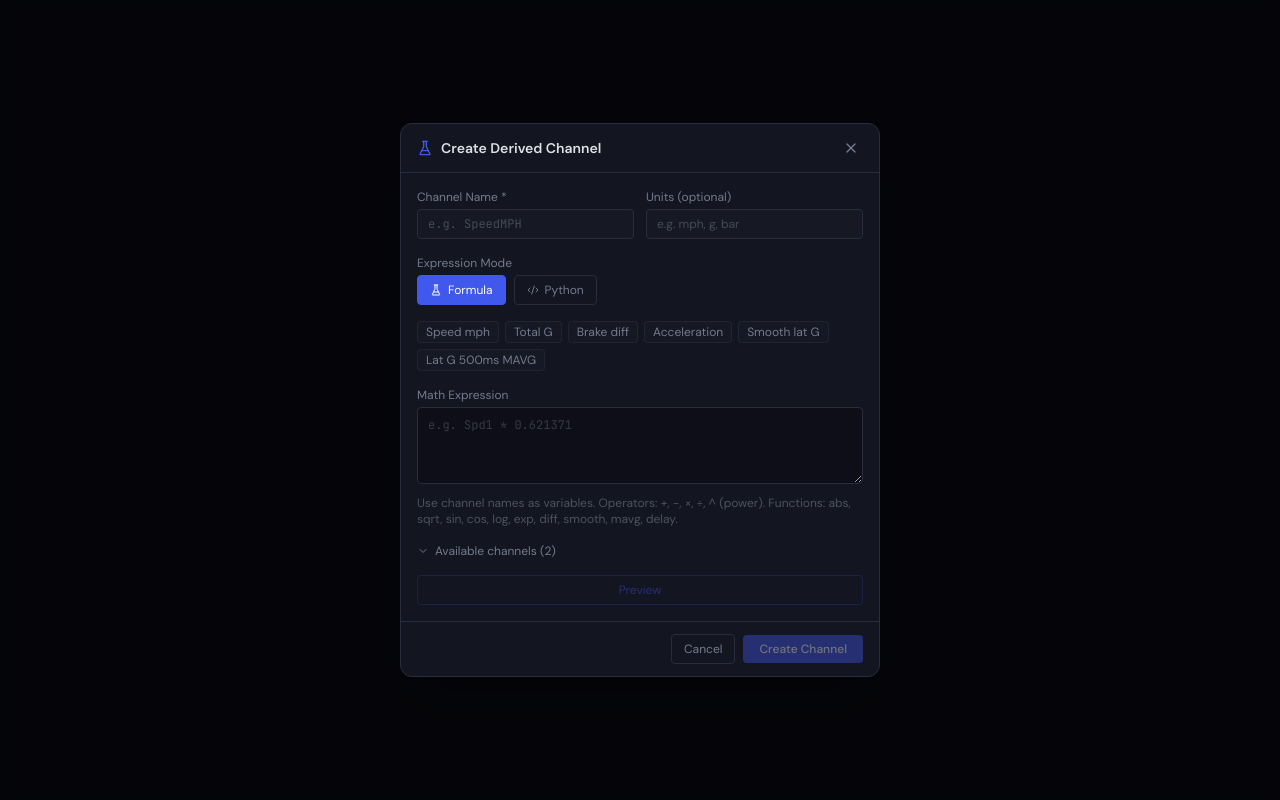
Test: DerivedChannelDialog › previews a formula and shows the sample count
The width and height of the screenshot is (1280, 800).
Type " Mph " into the field with test id "input-derived-name". click: x=526, y=224
box: 417,209 -> 634,239
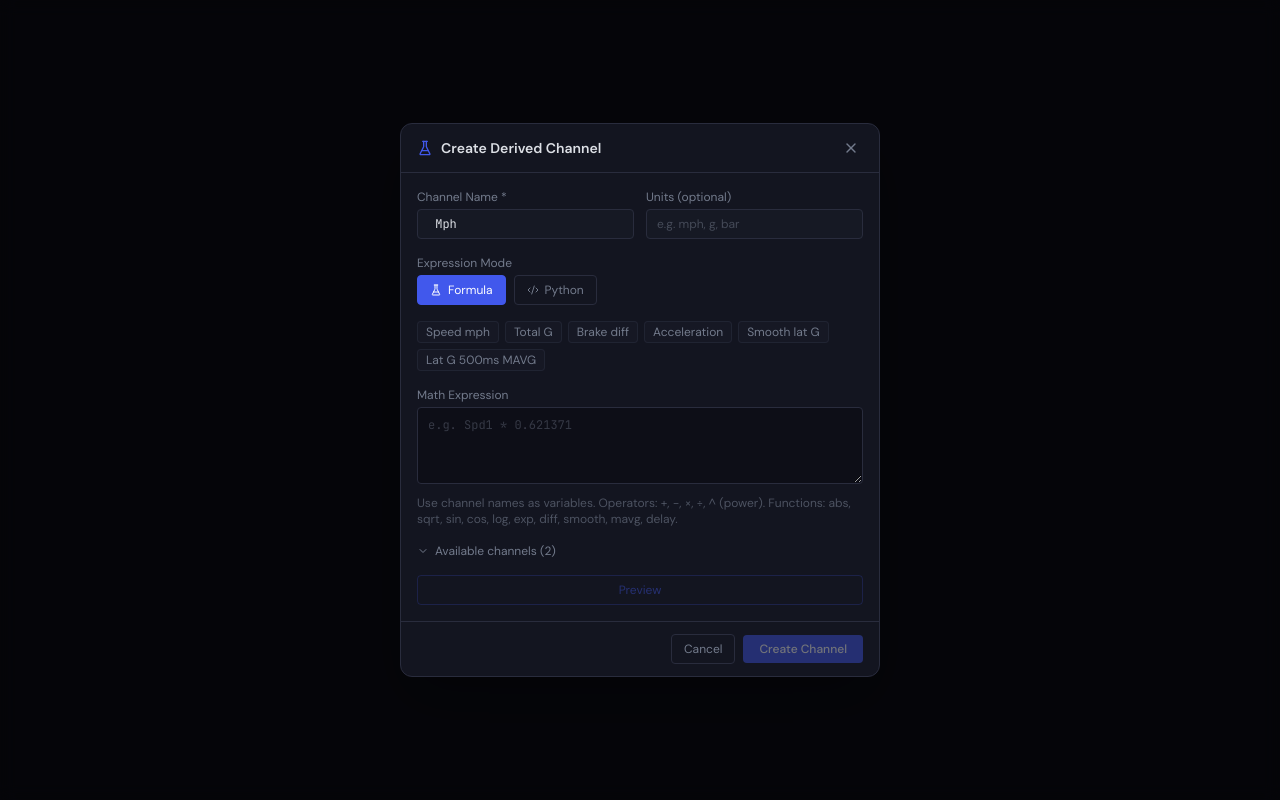
Type "mph" into the field with test id "input-derived-units". click: x=754, y=224
box: 646,209 -> 863,239
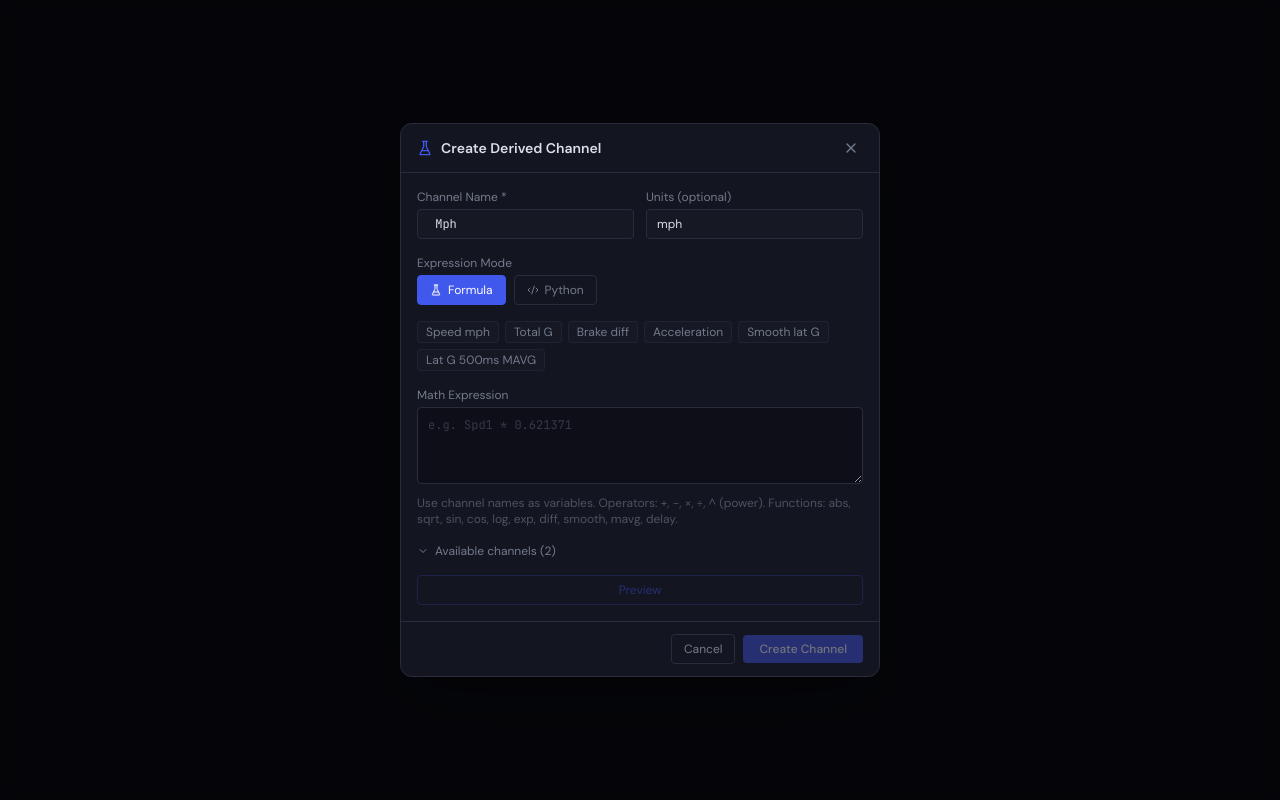
Type "Spd1 * 0.621371" into the text box with test id "textarea-expression". click: x=640, y=446
box: 417,407 -> 863,484
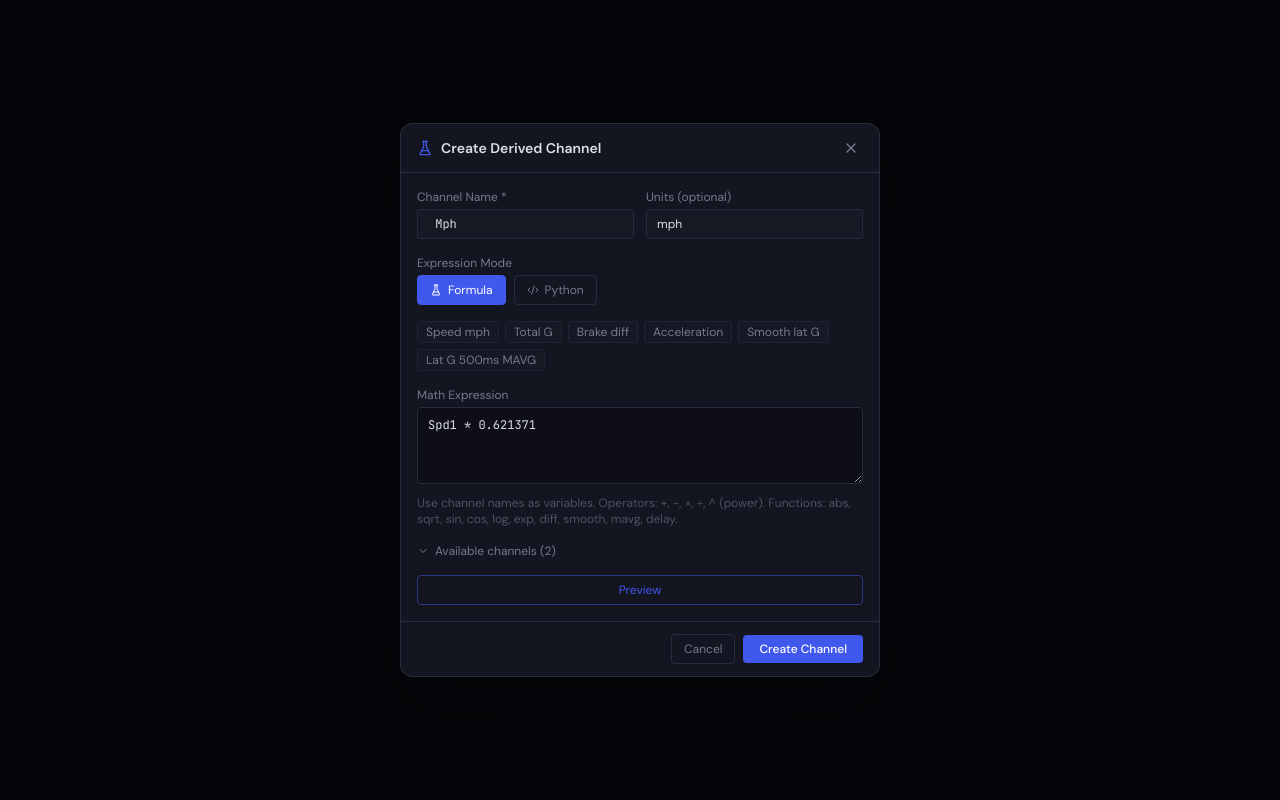
Click the button with test id "btn-preview". click: x=640, y=590
box: 417,575 -> 863,605
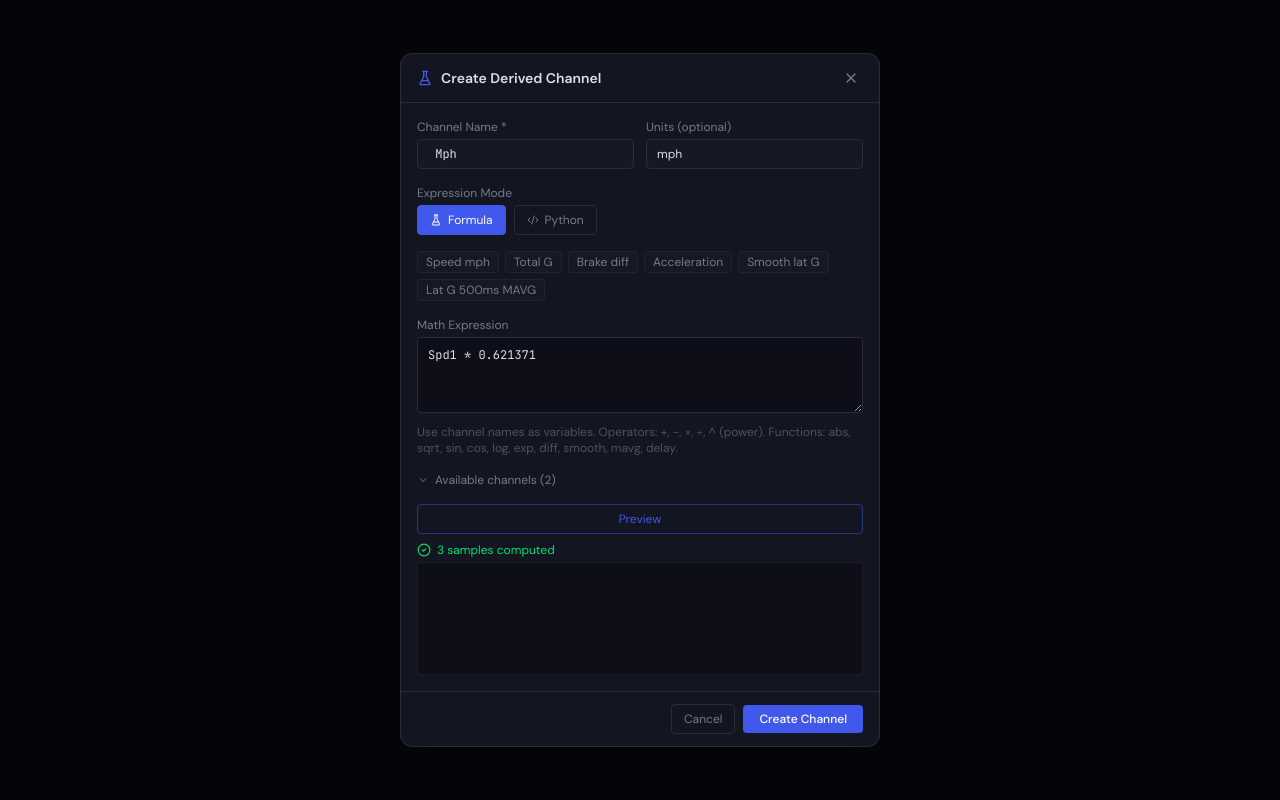
Check: the text "3 samples computed" is shown, box 437,542 -> 555,558
